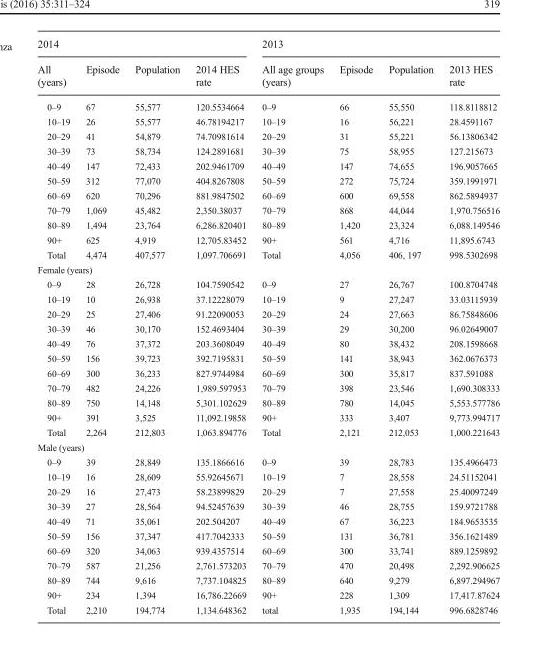table: (36, 37, 499, 614)
table column: (253, 37, 330, 614), (187, 37, 253, 614), (126, 37, 187, 614), (380, 37, 440, 614), (440, 37, 499, 614), (330, 37, 380, 614), (77, 37, 126, 614), (36, 37, 77, 614)
table column header: (36, 37, 499, 94)
table projected row header: (36, 261, 499, 276), (36, 439, 499, 454)
table row: (36, 55, 499, 94), (36, 94, 499, 113), (36, 37, 499, 55), (36, 113, 499, 128), (36, 128, 499, 143), (36, 143, 499, 158), (36, 172, 499, 187), (36, 187, 499, 202), (36, 202, 499, 217), (36, 217, 499, 232), (36, 246, 499, 261), (36, 261, 499, 276), (36, 276, 499, 291), (36, 291, 499, 306), (36, 320, 499, 335), (36, 335, 499, 350), (36, 350, 499, 365), (36, 365, 499, 380), (36, 394, 499, 409), (36, 409, 499, 424), (36, 424, 499, 439), (36, 439, 499, 454), (36, 468, 499, 483), (36, 483, 499, 498), (36, 498, 499, 513), (36, 513, 499, 528), (36, 542, 499, 557), (36, 557, 499, 572), (36, 572, 499, 587), (36, 587, 499, 602), (36, 158, 499, 172), (36, 232, 499, 246), (36, 306, 499, 320), (36, 380, 499, 394), (36, 454, 499, 468), (36, 528, 499, 542), (36, 602, 499, 614)
table spanning cell: (253, 37, 499, 55), (36, 37, 253, 55)
